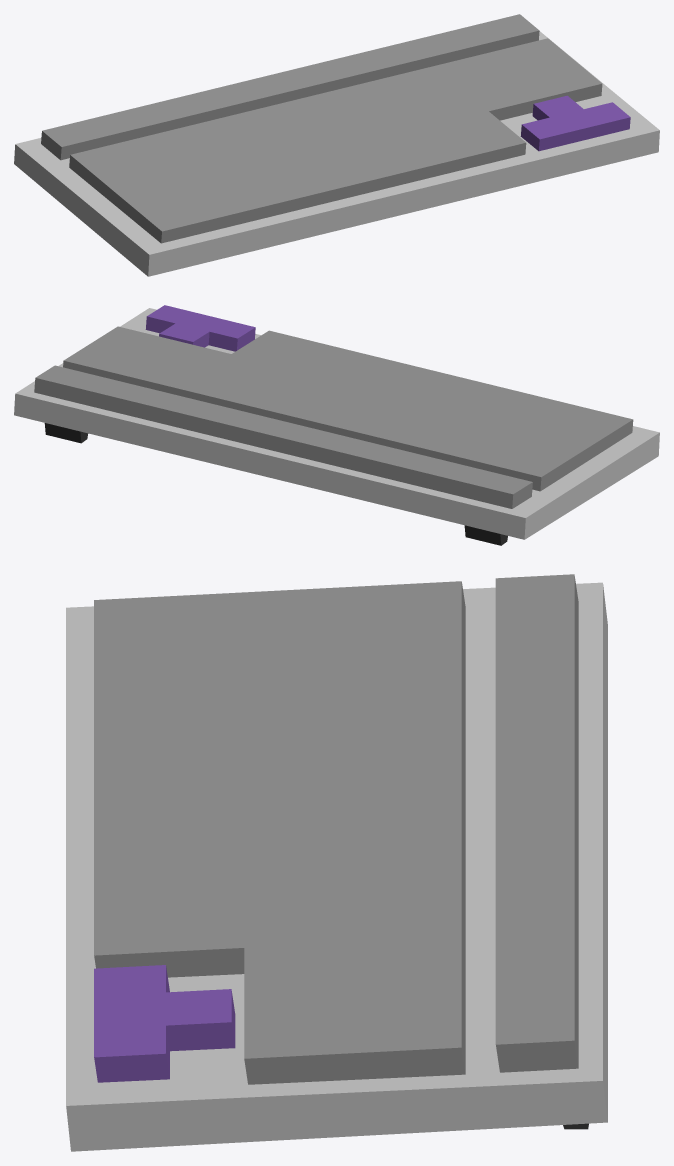
The model's file is PC_Keyboard_2_Mini.obj.
3 views of the same model, one above another, from view 1: azimuth 30°, elevation 25°; view 2: azimuth 150°, elevation 25°; view 3: azimuth 270°, elevation 25° (orthographic). The views are drawn at different scales.
Parts seen in each view (by area): view 1: PC_Keyboard_2_Mini; view 2: PC_Keyboard_2_Mini; view 3: PC_Keyboard_2_Mini.
Part boxes in pixels (<box>): PC_Keyboard_2_Mini: <box>14,14,659,276</box>; PC_Keyboard_2_Mini: <box>14,305,659,545</box>; PC_Keyboard_2_Mini: <box>66,574,607,1151</box>.
Size of the model in its own units: 0.3101 by 0.0296 by 0.1425.
